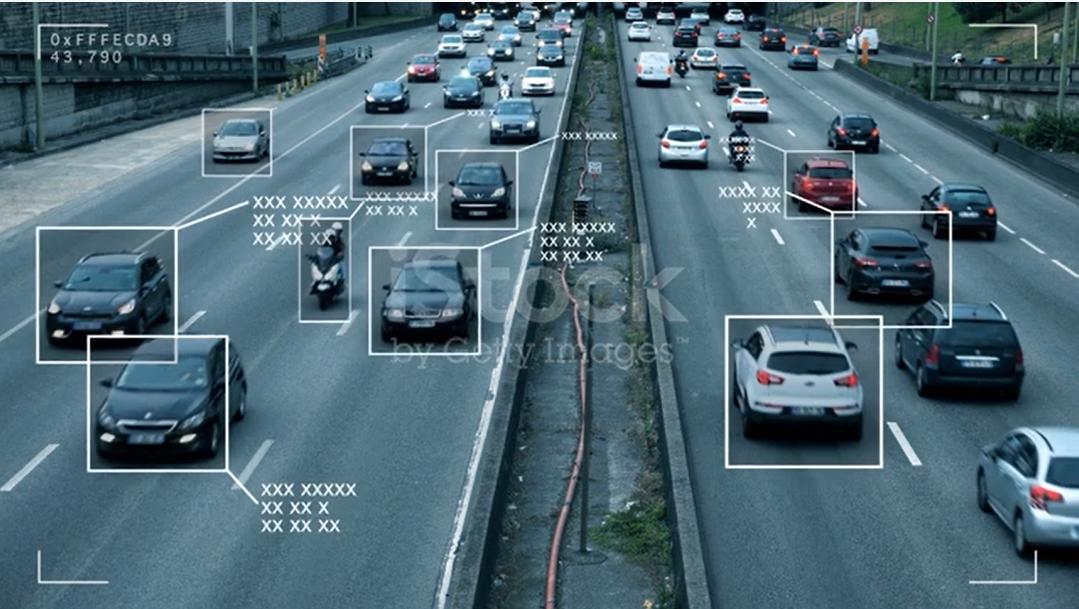car: (99, 331, 264, 494), (701, 305, 866, 456), (377, 235, 500, 392), (46, 227, 181, 364), (912, 293, 1043, 425), (977, 409, 1079, 553), (837, 217, 944, 320), (361, 117, 447, 218), (177, 107, 292, 180), (445, 157, 531, 236), (913, 185, 1013, 246), (791, 147, 866, 220), (657, 119, 711, 189), (819, 99, 871, 162), (485, 101, 551, 150), (355, 78, 414, 121), (722, 85, 788, 119), (632, 48, 673, 92), (786, 33, 825, 74), (400, 49, 444, 85), (515, 64, 557, 100), (713, 60, 749, 98), (438, 74, 480, 105)
motorcycle: (303, 201, 351, 340), (727, 124, 760, 176)
